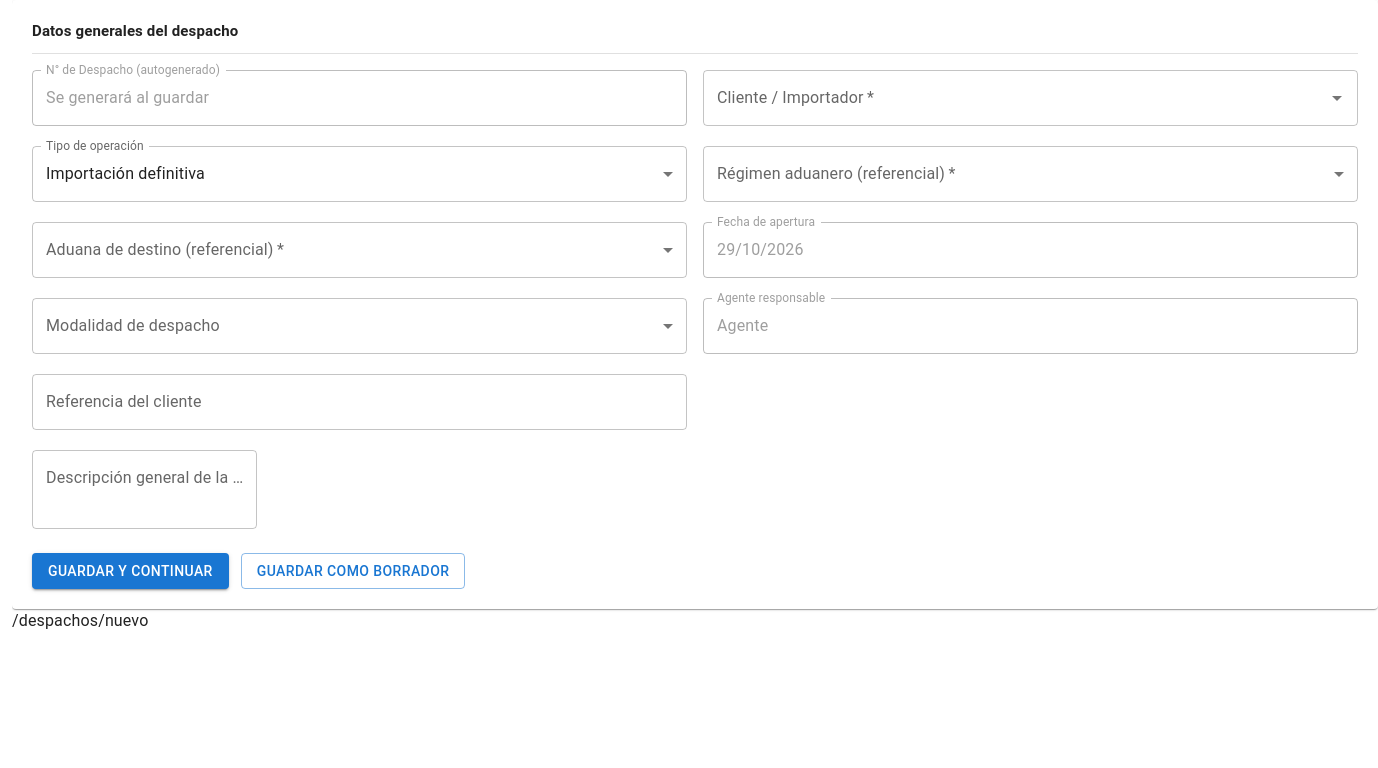
Test: DespachoFormPage (HU-03) › CA3: con obligatorios vacíos resalta los campos e impide continuar
The image size is (1378, 768).
Click the button "Guardar y continuar" at (130, 571), box 32,552 -> 229,589
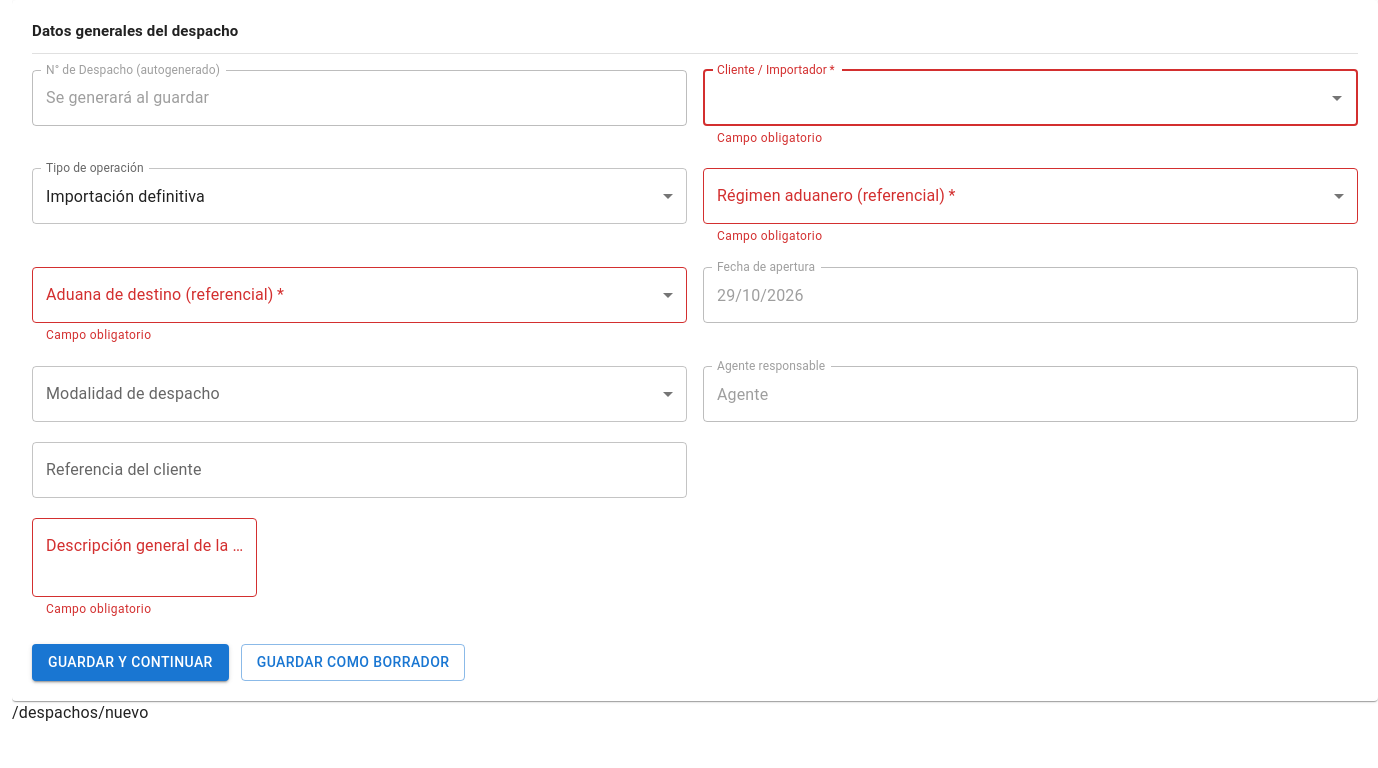
Expected: the text "Campo obligatorio" is shown 4 times, 717,130 -> 822,144; 717,229 -> 822,243; 46,328 -> 151,342; 46,602 -> 151,616
